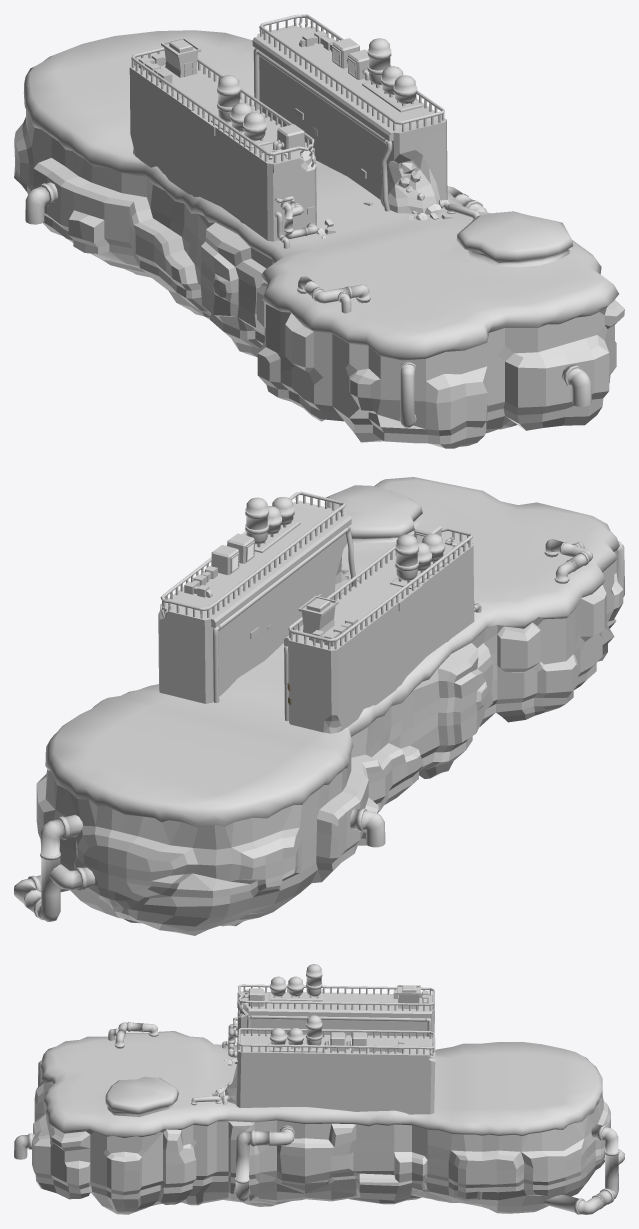
The model's file is whole ass_island_mod.fbx.
3 views of the same model, one above another, from view 1: azimuth 30°, elevation 25°; view 2: azimuth 150°, elevation 25°; view 3: azimuth 270°, elevation 25° (orthographic). The views are drawn at different scales.
Parts seen in each view (by area): view 1: island, island.001, Cube.004, Cube, island.002, Cylinder.001, Cylinder.065, Cube.002, Elbow Joint.018, Elbow Joint.013, Elbow Joint.015, Elbow Joint.026 (+4 smaller); view 2: island, island.001, Cube, Cube.004, island.002, Elbow Joint.024, Cylinder.001, Cylinder.065, Elbow Joint.013, Cube.002, Elbow Joint.018, Roundcube.002 (+4 smaller); view 3: island, island.001, Cube.004, Cube, island.002, Elbow Joint.024, Cylinder.065, Elbow Joint.005, Cylinder.001, Elbow Joint.008, Elbow Joint.013, Roundcube.002 (+4 smaller).
Part boxes in pixels (left/top/right/bottom): island: left=14, top=110, right=624, bottom=448; island.001: left=23, top=30, right=618, bottom=360; Cube.004: left=252, top=25, right=447, bottom=213; Cube: left=129, top=57, right=316, bottom=241; island.002: left=456, top=211, right=572, bottom=267; Cylinder.001: left=131, top=47, right=314, bottom=167; Cylinder.065: left=259, top=14, right=444, bottom=131; Cube.002: left=161, top=37, right=201, bottom=77; Elbow Joint.018: left=257, top=50, right=392, bottom=211; Elbow Joint.013: left=297, top=276, right=370, bottom=303; Elbow Joint.015: left=399, top=362, right=416, bottom=427; Elbow Joint.026: left=25, top=182, right=57, bottom=224; island: left=36, top=550, right=623, bottom=935; island.001: left=45, top=477, right=619, bottom=827; Cube: left=284, top=536, right=474, bottom=733; Cube.004: left=158, top=501, right=351, bottom=703; island.002: left=324, top=485, right=422, bottom=543; Elbow Joint.024: left=14, top=814, right=82, bottom=921; Cylinder.001: left=288, top=527, right=472, bottom=649; Cylinder.065: left=160, top=491, right=345, bottom=618; Elbow Joint.013: left=544, top=539, right=592, bottom=583; Cube.002: left=298, top=596, right=338, bottom=633; Elbow Joint.018: left=220, top=525, right=355, bottom=628; Roundcube.002: left=395, top=534, right=418, bottom=583; island: left=32, top=1081, right=610, bottom=1214; island.001: left=40, top=1031, right=602, bottom=1138; Cube.004: left=225, top=1033, right=435, bottom=1114; Cube: left=237, top=991, right=434, bottom=1059; island.002: left=105, top=1076, right=178, bottom=1116; Elbow Joint.024: left=544, top=1123, right=619, bottom=1214; Cylinder.065: left=238, top=1028, right=434, bottom=1056; Elbow Joint.005: left=233, top=1125, right=294, bottom=1201; Cylinder.001: left=238, top=984, right=434, bottom=1015; Elbow Joint.008: left=246, top=1015, right=424, bottom=1033; Elbow Joint.013: left=114, top=1022, right=158, bottom=1048; Roundcube.002: left=306, top=964, right=322, bottom=998.
Size of the model in its own units: 1259 by 1168 by 2979.
